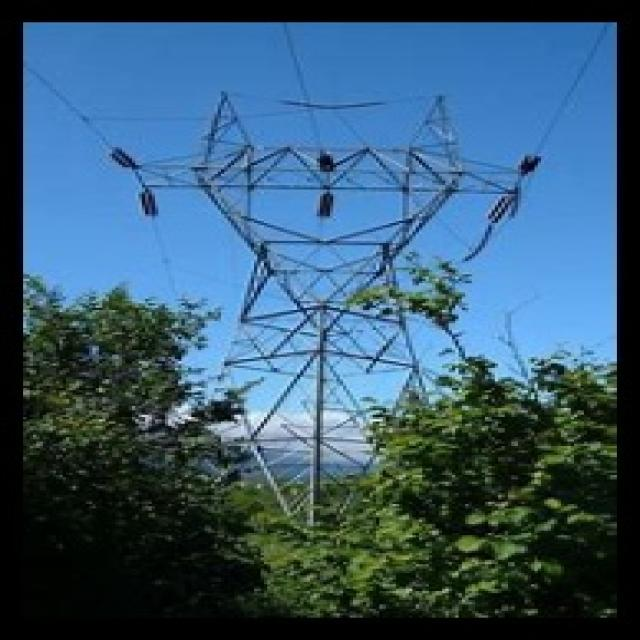utility poles: (330, 261, 588, 452), (108, 278, 280, 448)
